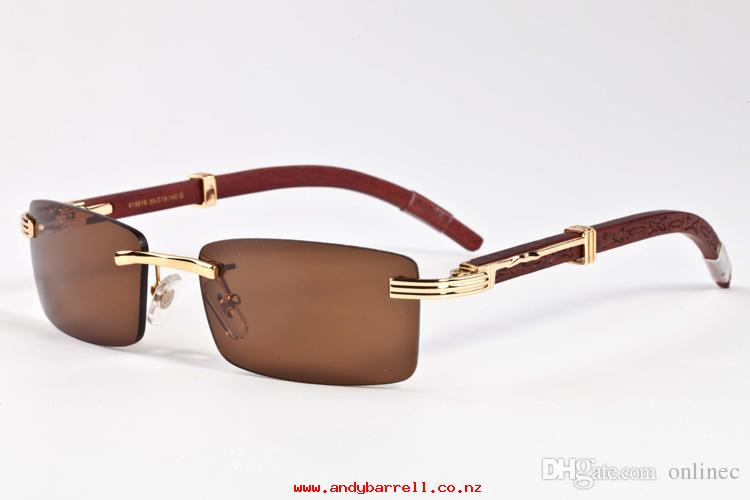sunglasses: (7, 169, 735, 401)
